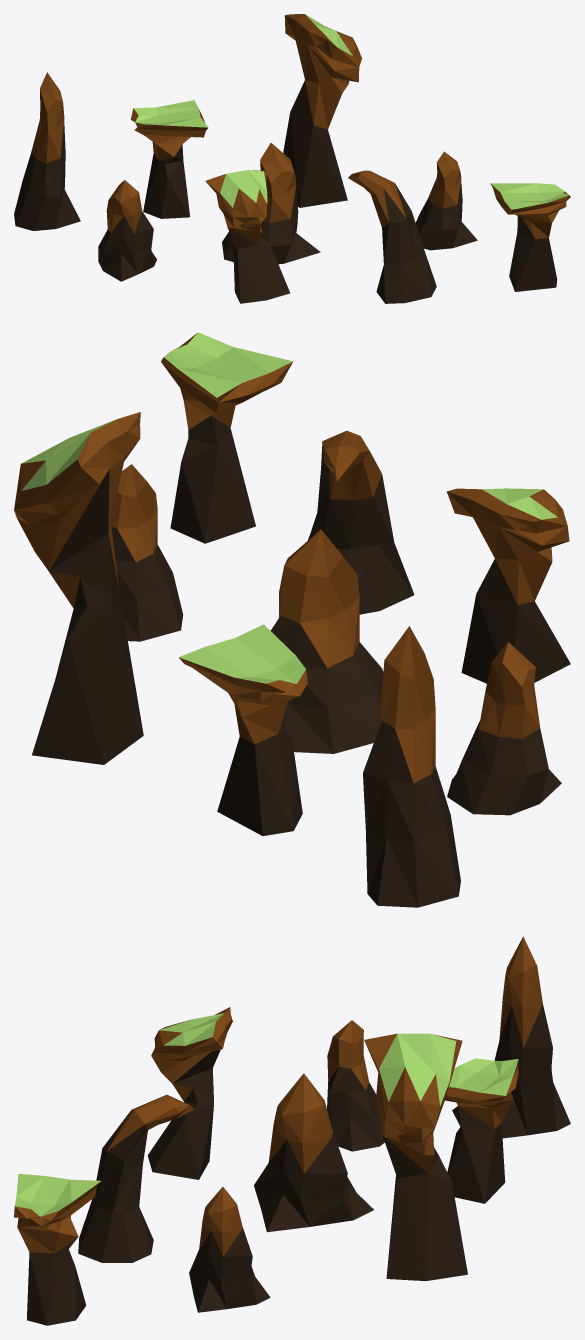
File: Island_B01_Formation03.fbx
3 views of the same model, one above another, from view 1: azimuth 30°, elevation 25°; view 2: azimuth 150°, elevation 25°; view 3: azimuth 270°, elevation 25° (orthographic). The views are drawn at different scales.
Visible parts, largest first — view 1: Island_B01_Spike_Formations3_Combi; view 2: Island_B01_Spike_Formations3_Combi; view 3: Island_B01_Spike_Formations3_Combi.
Part boxes in pixels (<box>): Island_B01_Spike_Formations3_Combi: <box>14,14,570,303</box>; Island_B01_Spike_Formations3_Combi: <box>14,332,570,907</box>; Island_B01_Spike_Formations3_Combi: <box>14,936,570,1325</box>.
Size of the model in its own units: 65.12 by 31.2 by 68.74.
